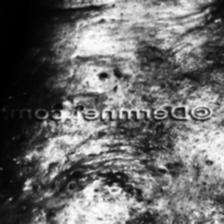Non-Cancerous Skin Condition: (0, 124, 175, 224), (38, 1, 194, 90)
